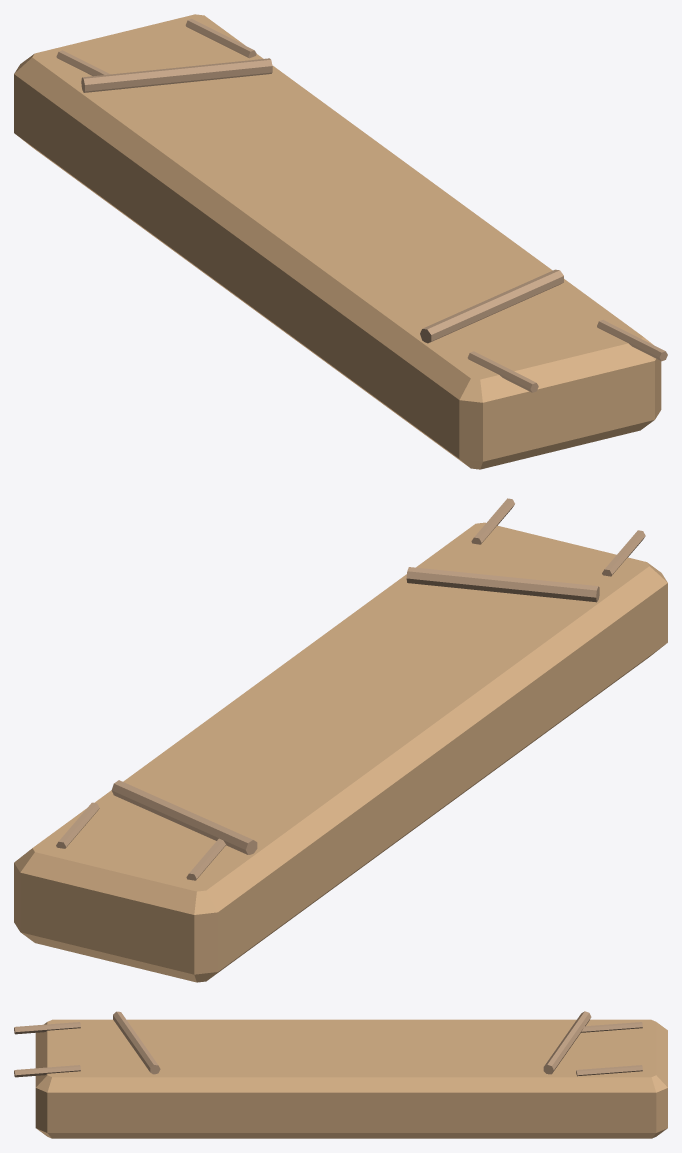
File: driftwood_plank.glb
The picture shows the model from 3 angles, top to bottom: view 1: azimuth 30°, elevation 25°; view 2: azimuth 150°, elevation 25°; view 3: azimuth 270°, elevation 25°; orthographic projection. The views are drawn at different scales.
Parts seen in each view (by area): view 1: driftwood_plank_wood_mid, driftwood_plank_wood_seam; view 2: driftwood_plank_wood_mid, driftwood_plank_wood_seam; view 3: driftwood_plank_wood_mid, driftwood_plank_wood_seam.
Part boxes in pixels (x1,y1,x2,y2): driftwood_plank_wood_mid: (14, 14, 661, 469); driftwood_plank_wood_seam: (56, 19, 667, 392); driftwood_plank_wood_mid: (14, 522, 667, 982); driftwood_plank_wood_seam: (56, 498, 645, 880); driftwood_plank_wood_mid: (35, 1019, 667, 1138); driftwood_plank_wood_seam: (14, 1011, 642, 1077).
Bounding box in the file's own units: 0.34 × 0.1672 × 1.4.
